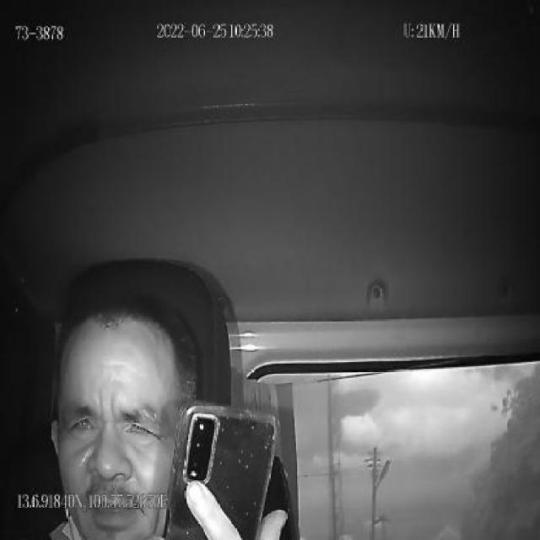phone: (166, 400, 280, 540)
